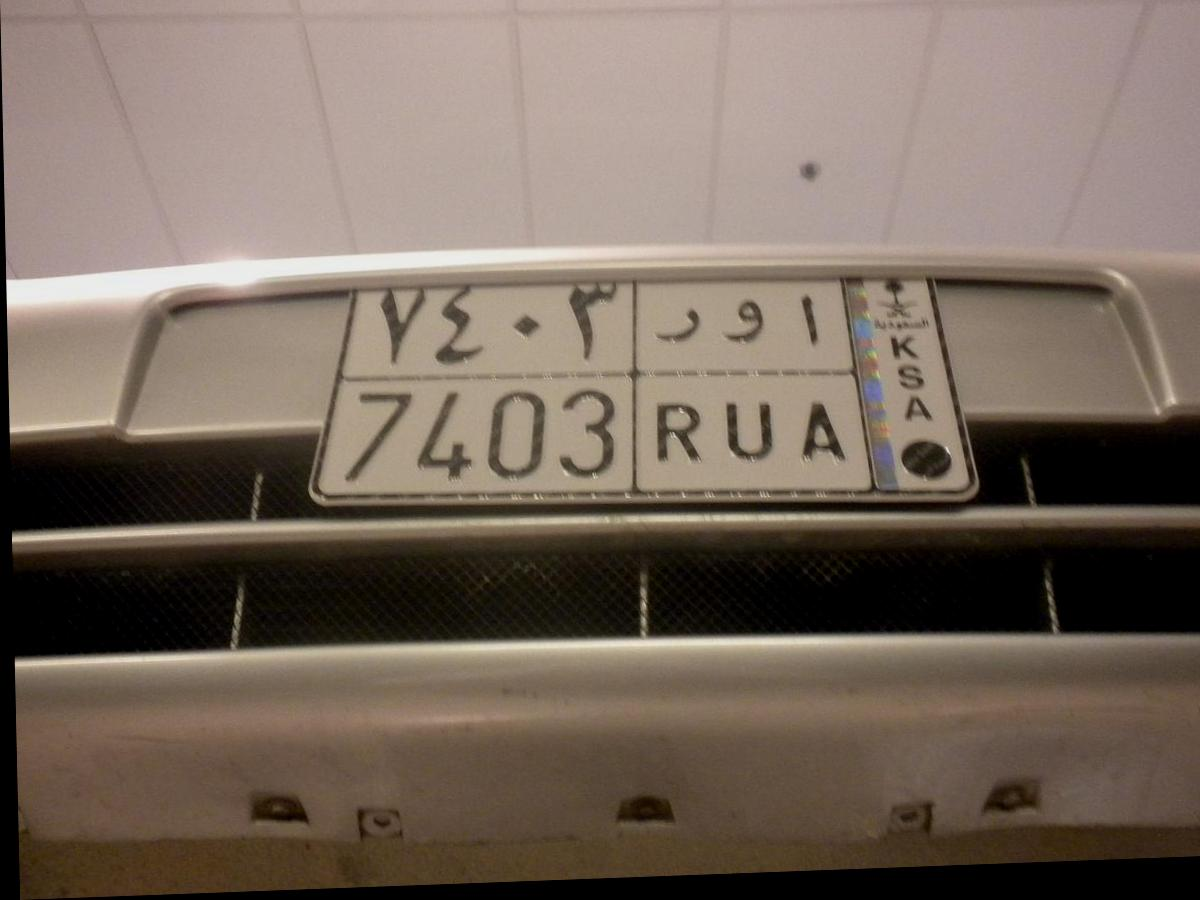License_Plate: (298, 236, 999, 546)
